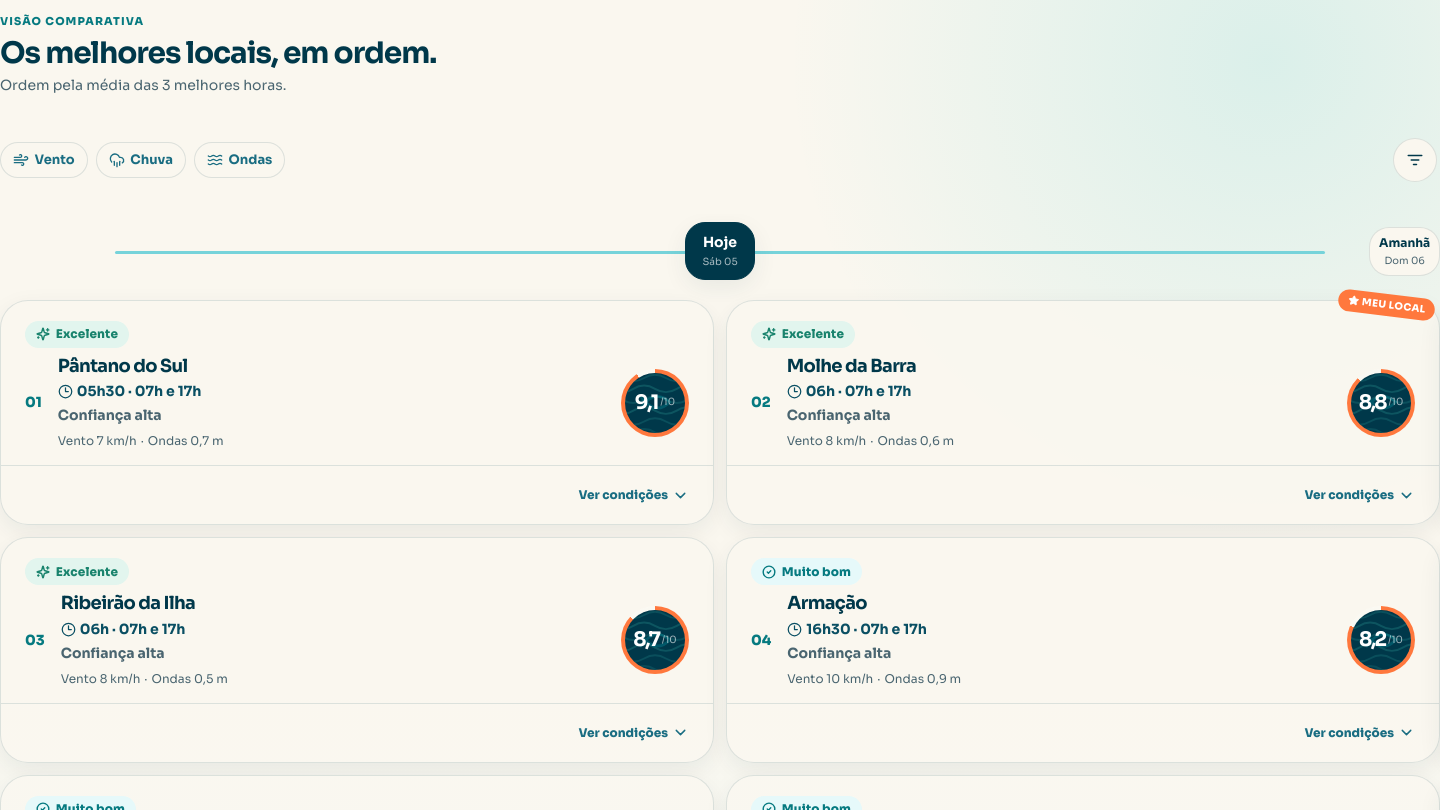
Test: RankingPage › reordena o ranking quando a ênfase muda
This screenshot has width=1440, height=810.
Expected: the heading "Os melhores locais, em ordem." is shown, top-left (0, 36), bottom-right (436, 72)
Expected: the text "Confiança alta" is shown, top-left (58, 406), bottom-right (162, 424)
Click the button with aria-label "Vento. Toque para ordenar com menos vento.": (44, 160) top-left (0, 142), bottom-right (88, 178)
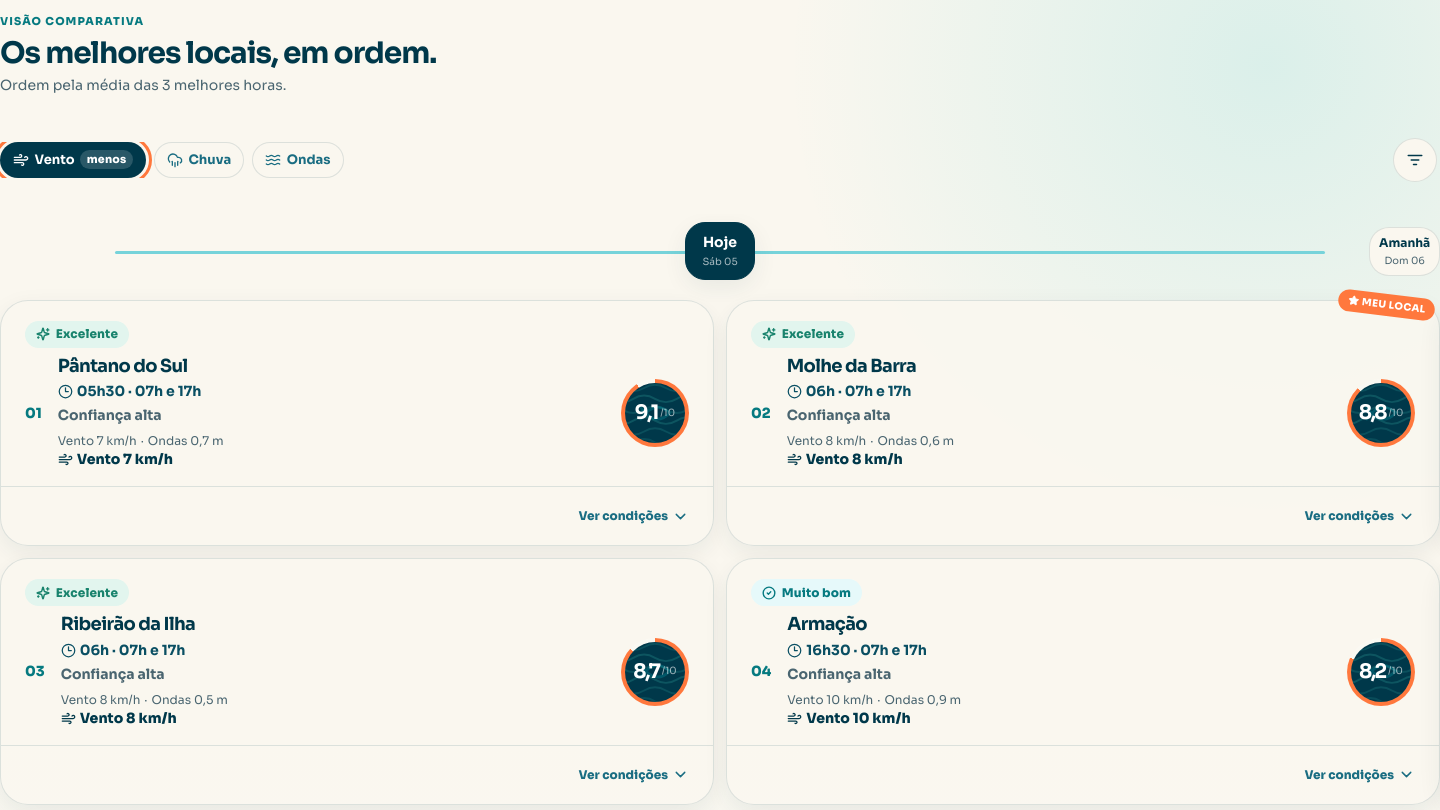
Expected: the heading "Os melhores locais, em ordem." is shown, top-left (0, 36), bottom-right (436, 72)
Expected: the text "menos" is shown, top-left (80, 150), bottom-right (133, 169)
Click the button with aria-label "Menos vento. Toque para ordenar com mais vento.": (73, 160) top-left (0, 142), bottom-right (146, 178)
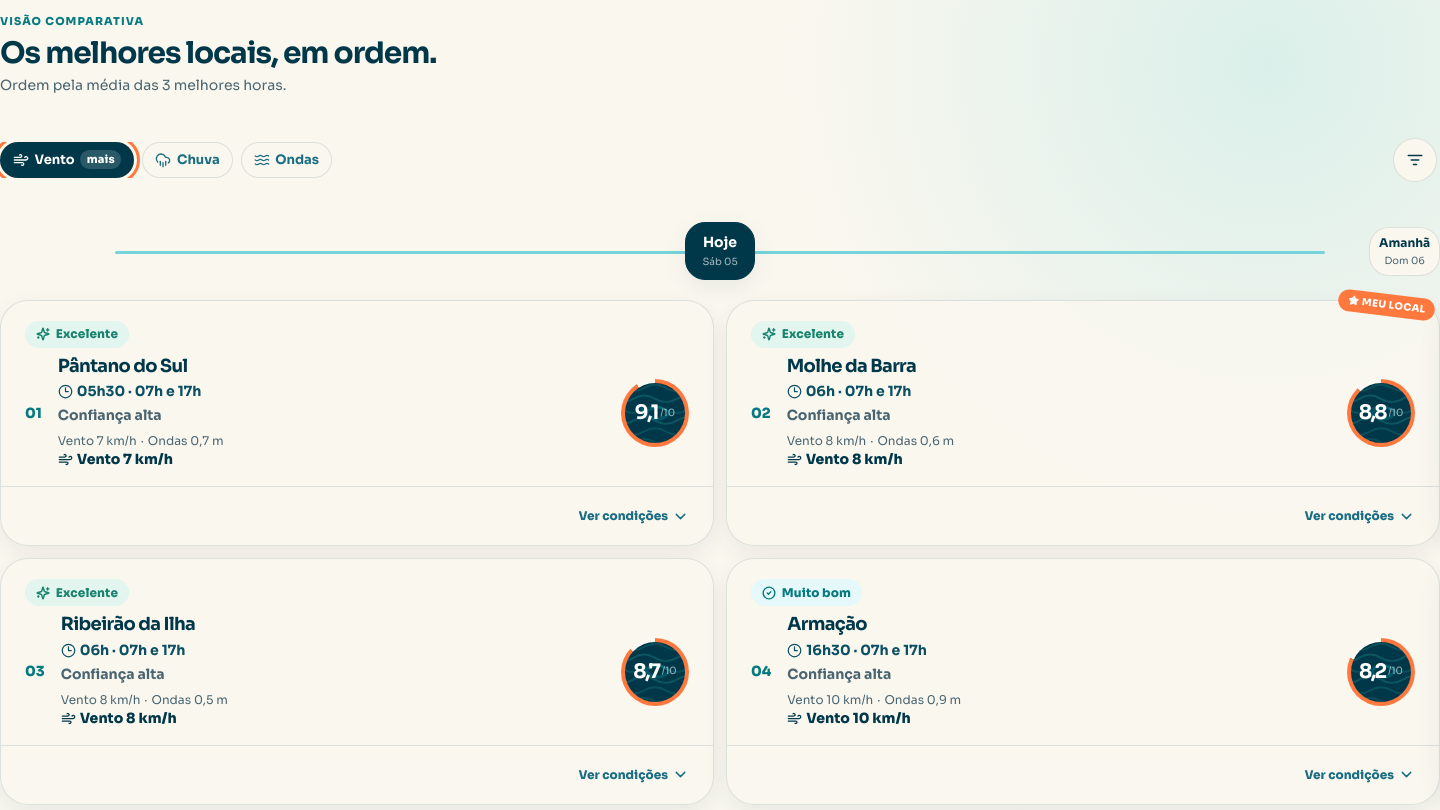
Expected: the heading "Os melhores locais, em ordem." is shown, top-left (0, 36), bottom-right (436, 72)
Expected: the text "mais" is shown, top-left (80, 150), bottom-right (121, 169)
